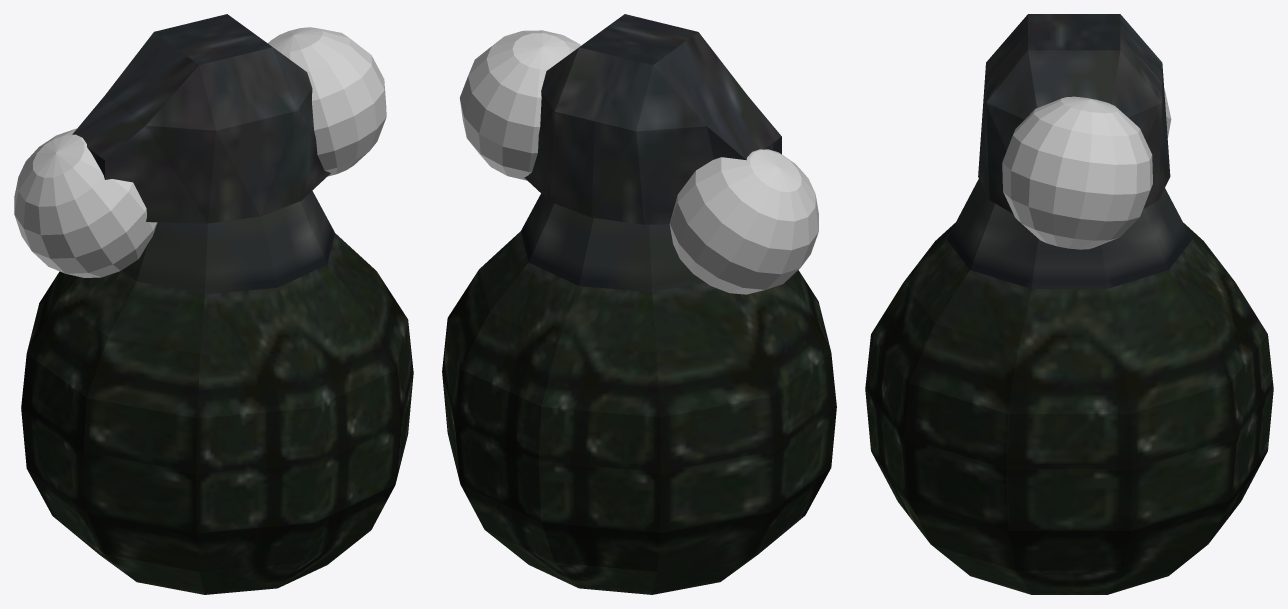
File: Frag Grenade.obj
3 views of the same model, side by side, from view 1: azimuth 30°, elevation 25°; view 2: azimuth 150°, elevation 25°; view 3: azimuth 270°, elevation 25° (orthographic).
Parts seen in each view (by area): view 1: default_default1, smoke, light; view 2: default_default1, smoke, light; view 3: default_default1, light.
Boxes of the visible parts, x1,y1,x2,y2 form: default_default1: [21, 14, 413, 594]; smoke: [14, 128, 157, 277]; light: [268, 27, 386, 176]; default_default1: [442, 14, 836, 594]; smoke: [669, 149, 818, 294]; light: [460, 30, 580, 180]; default_default1: [865, 14, 1273, 594]; light: [1002, 96, 1152, 249].
Bounding box in the file's own units: 5.3 × 7.87 × 5.31.
2 materials, 1 textured.
